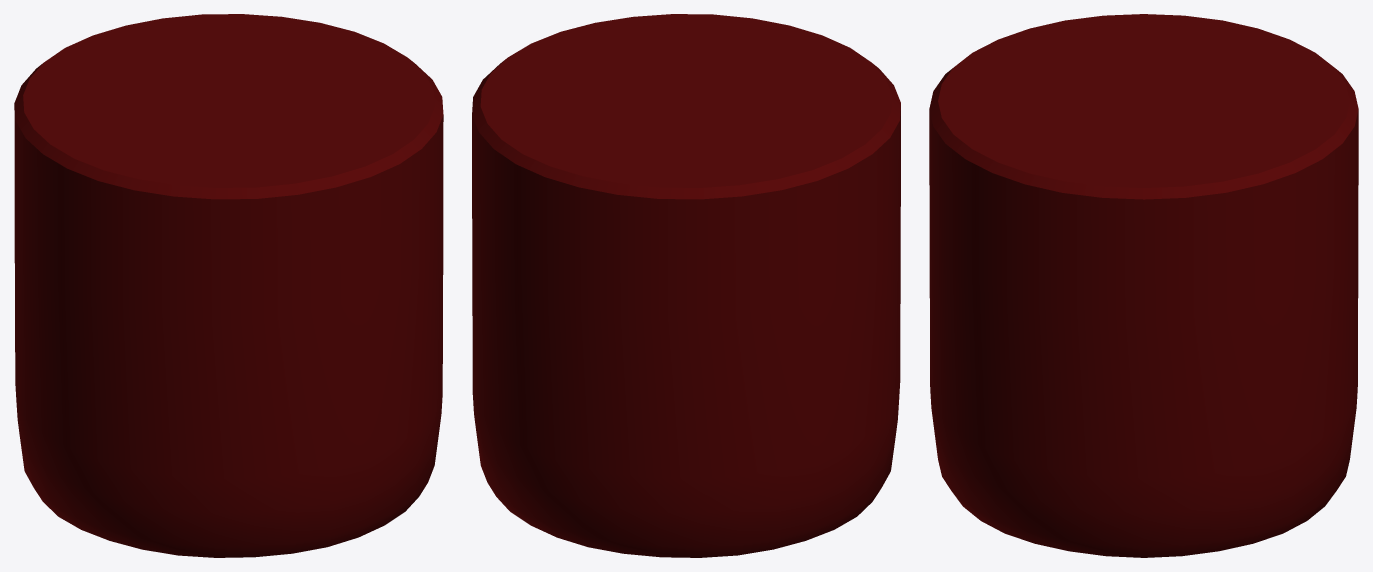
File: Chickpeas.fbx
3 views of the same model, side by side, from view 1: azimuth 30°, elevation 25°; view 2: azimuth 150°, elevation 25°; view 3: azimuth 270°, elevation 25° (orthographic).
Parts seen in each view (by area): view 1: Chickpeas; view 2: Chickpeas; view 3: Chickpeas.
Boxes of the visible parts, x1=… form: Chickpeas: x1=14, y1=14, x2=443, y2=557; Chickpeas: x1=472, y1=14, x2=900, y2=557; Chickpeas: x1=929, y1=14, x2=1358, y2=557.
Bounding box in the file's own units: 179 × 175 × 179.
